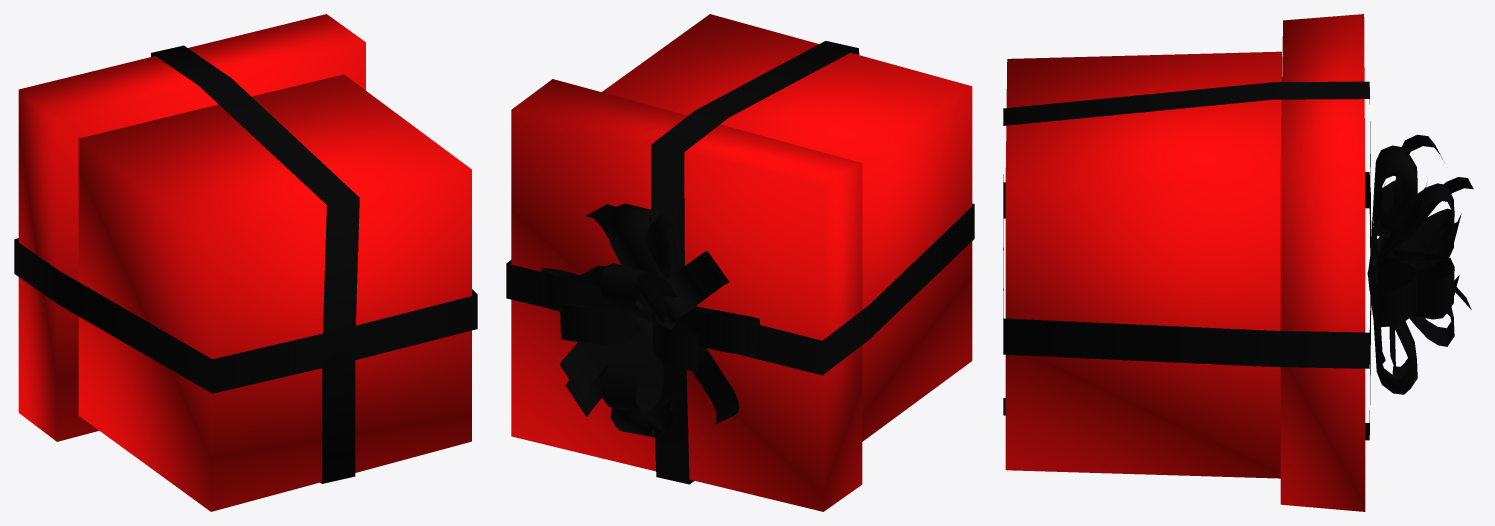
Rendered from gift.dae.
The picture shows the model from 3 angles, left to right: view 1: azimuth 30°, elevation 25°; view 2: azimuth 150°, elevation 25°; view 3: azimuth 270°, elevation 25°; orthographic projection. The views are drawn at different scales.
Visible parts, largest first — view 1: Cube, Cube_001, Cube_002; view 2: Cube, Cube_002, Cube_001, Cube_004, Cube_003; view 3: Cube, Cube_001, Cube_002, Cube_003, Cube_004.
Part boxes in pixels (x1,y1,x2,y2): Cube: (18,14,471,511); Cube_001: (14,238,477,393); Cube_002: (151,45,359,483); Cube: (511,14,972,511); Cube_002: (599,41,859,484); Cube_001: (506,203,974,375); Cube_004: (559,251,729,417); Cube_003: (577,204,738,425); Cube: (1005,14,1365,511); Cube_001: (1003,172,1454,368); Cube_002: (1003,81,1454,440); Cube_003: (1367,182,1461,319); Cube_004: (1388,134,1473,379).
Size of the model in its own units: 2.37 by 2.97 by 2.37.
